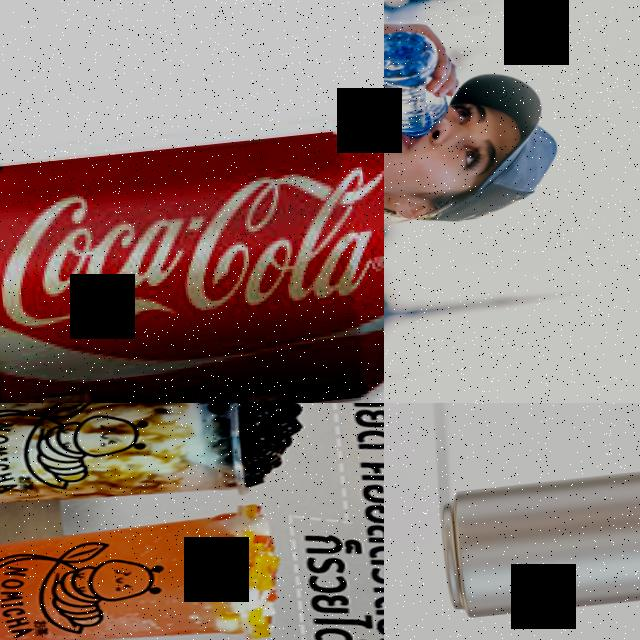bottle: (384, 24, 453, 145)
can: (0, 115, 384, 403), (431, 446, 640, 623)
cup: (0, 503, 263, 640), (0, 403, 255, 532)
